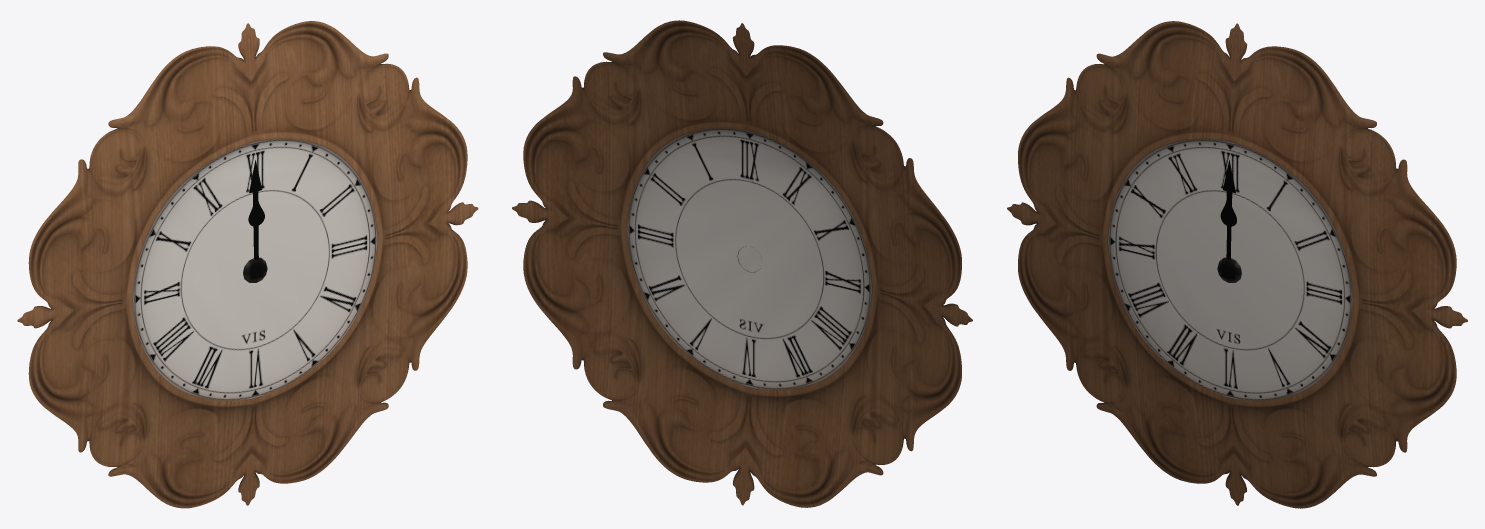
The model's file is wanduhr_06.fbx.
3 renders of one model, left to right at view 1: azimuth 30°, elevation 25°; view 2: azimuth 150°, elevation 25°; view 3: azimuth 330°, elevation 25°, orthographic.
Visible parts, largest first — view 1: wanduhr_06, stundenzeiger; view 2: wanduhr_06; view 3: wanduhr_06, stundenzeiger.
Part boxes in pixels (box(x1,y1,x2,y2)): wanduhr_06: box(17, 21, 478, 508); stundenzeiger: box(248, 173, 264, 260); wanduhr_06: box(512, 20, 972, 507); wanduhr_06: box(1007, 21, 1467, 508); stundenzeiger: box(1220, 173, 1236, 260).
Bounding box in the file's own units: 91.91 × 91.91 × 3.17.
